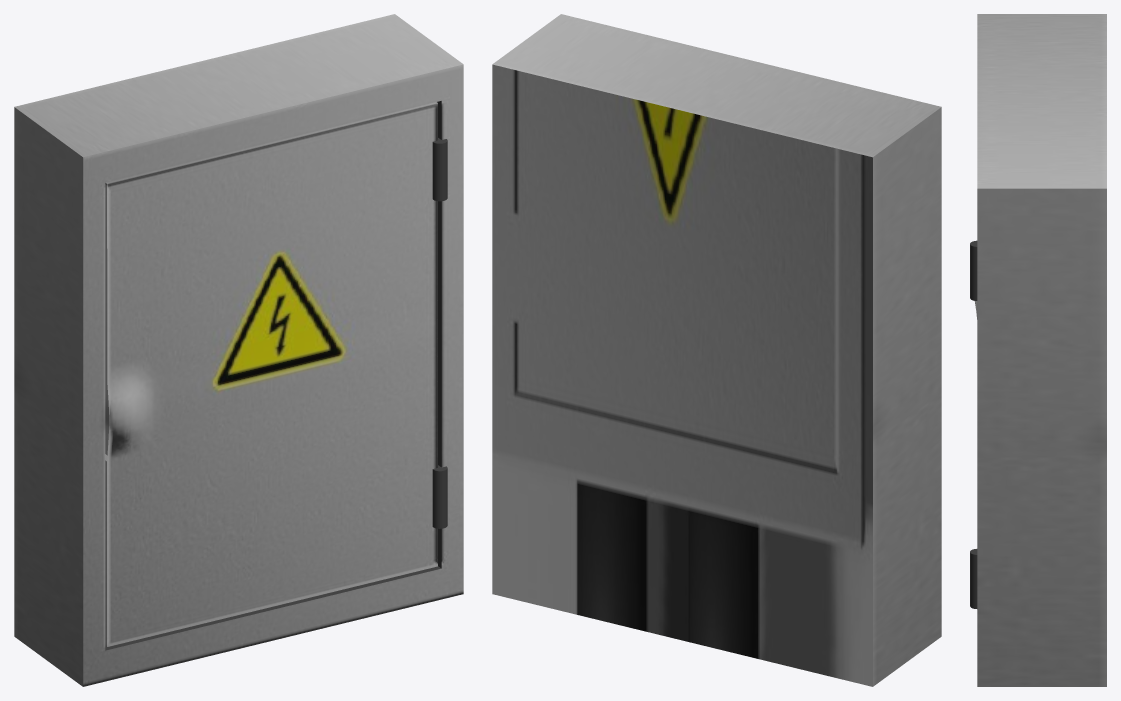
File: Fusebox.fbx
3 views of the same model, side by side, from view 1: azimuth 30°, elevation 25°; view 2: azimuth 150°, elevation 25°; view 3: azimuth 270°, elevation 25° (orthographic). The views are drawn at different scales.
Visible parts, largest first — view 1: FuseboxDoor, Fusebox1; view 2: Fusebox1; view 3: Fusebox1, FuseboxDoor.
Part boxes in pixels (x1,y1,x2,y2): FuseboxDoor: (105, 102, 447, 646); Fusebox1: (14, 14, 463, 686); Fusebox1: (492, 14, 941, 686); Fusebox1: (977, 14, 1106, 686); FuseboxDoor: (970, 240, 977, 608).
Bounding box in the file's own units: 128 × 170 × 42.33.
2 materials, 1 textured.
